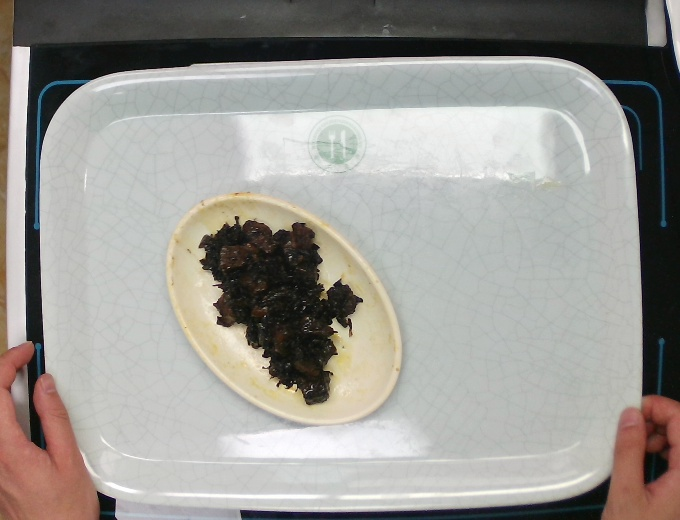JYsf-Tuo_Yuan_Wan: (157, 191, 406, 432)
